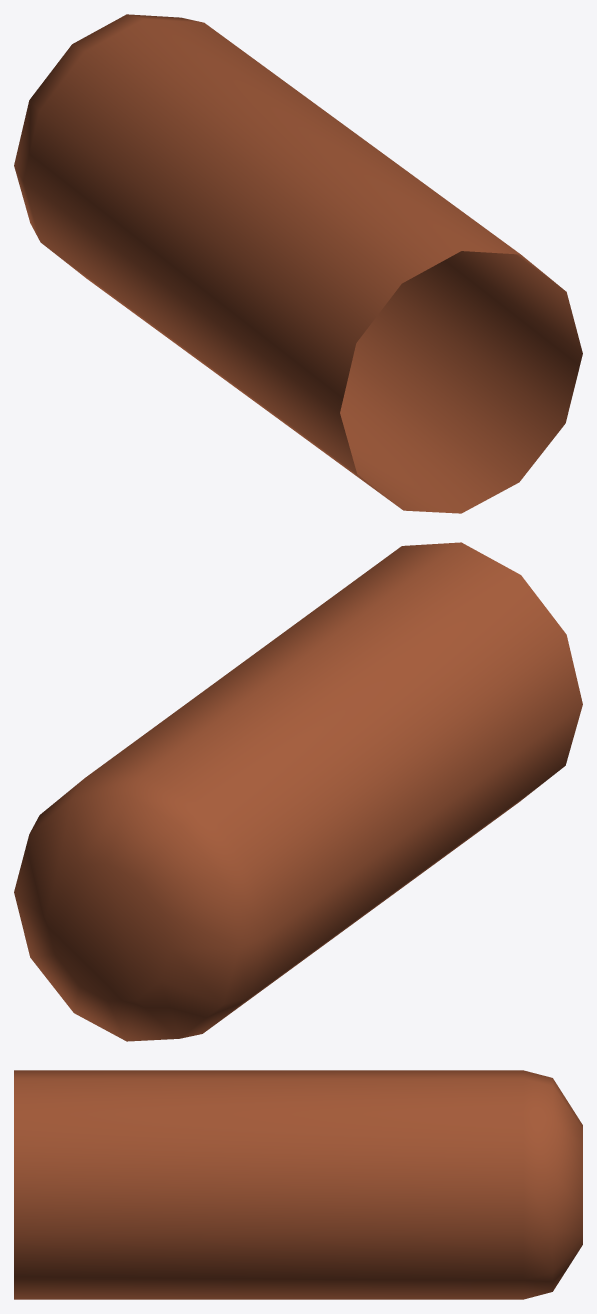
File: SM_tileSol_EndTop_Solo_Left.fbx
The picture shows the model from 3 angles, top to bottom: view 1: azimuth 30°, elevation 25°; view 2: azimuth 150°, elevation 25°; view 3: azimuth 270°, elevation 25°; orthographic projection. The views are drawn at different scales.
Parts seen in each view (by area): view 1: SM_tileSol_EndTop_Solo_Left; view 2: SM_tileSol_EndTop_Solo_Left; view 3: SM_tileSol_EndTop_Solo_Left.
Part boxes in pixels (x1,y1,x2,y2): SM_tileSol_EndTop_Solo_Left: [14, 14, 582, 513]; SM_tileSol_EndTop_Solo_Left: [14, 542, 582, 1041]; SM_tileSol_EndTop_Solo_Left: [14, 1070, 582, 1299].
Size of the model in its own units: 9.68 by 10 by 24.4.
